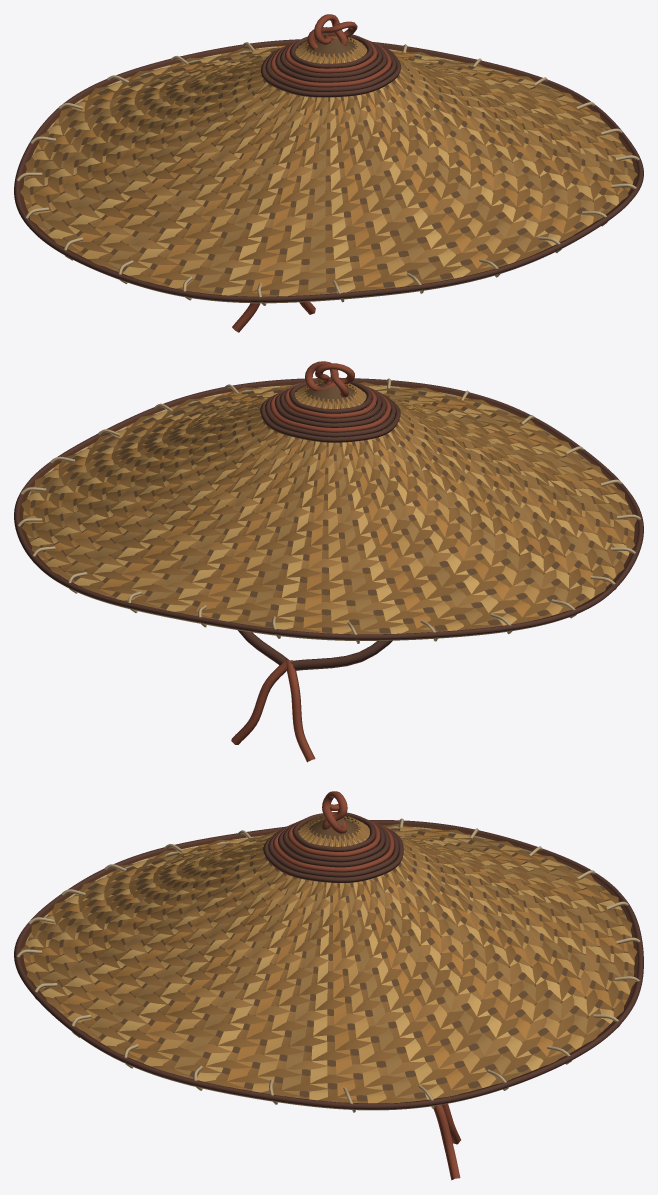
Rendered from PilgrimRainHat.glb.
The picture shows the model from 3 angles, top to bottom: view 1: azimuth 30°, elevation 25°; view 2: azimuth 150°, elevation 25°; view 3: azimuth 270°, elevation 25°; orthographic projection. The views are drawn at different scales.
Parts seen in each view (by area): view 1: PilgrimRainHat; view 2: PilgrimRainHat; view 3: PilgrimRainHat.
Boxes of the visible parts, bbox=[...] form: PilgrimRainHat: bbox=[14, 14, 643, 332]; PilgrimRainHat: bbox=[14, 361, 643, 762]; PilgrimRainHat: bbox=[14, 791, 643, 1180].
Size of the model in its own units: 0.9289 by 0.5597 by 0.871.
